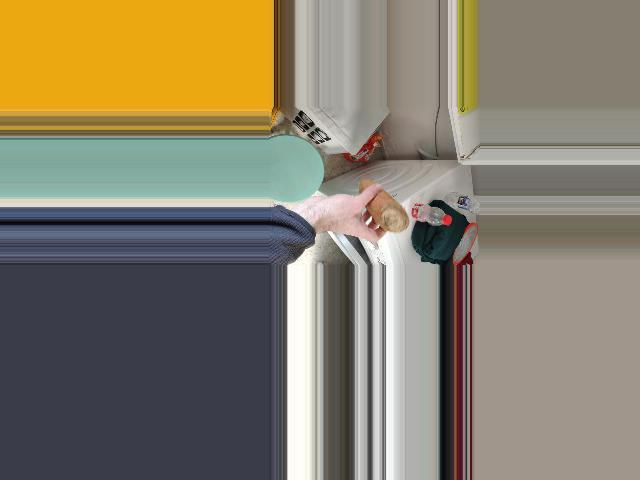sweet_potato: (359, 174, 407, 237)
